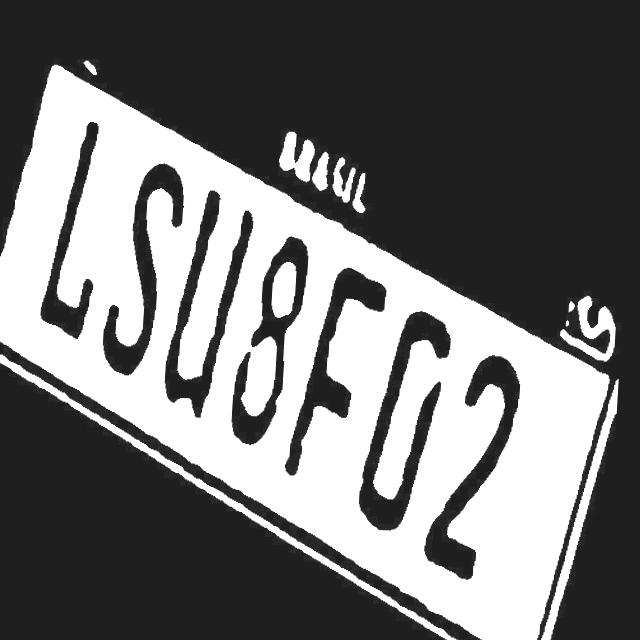0: (364, 301, 456, 542)
2: (430, 341, 529, 580)
8: (237, 224, 313, 448)
f: (293, 251, 393, 478)
l: (39, 119, 117, 338)
s: (105, 153, 187, 379)
u: (169, 208, 259, 417)
